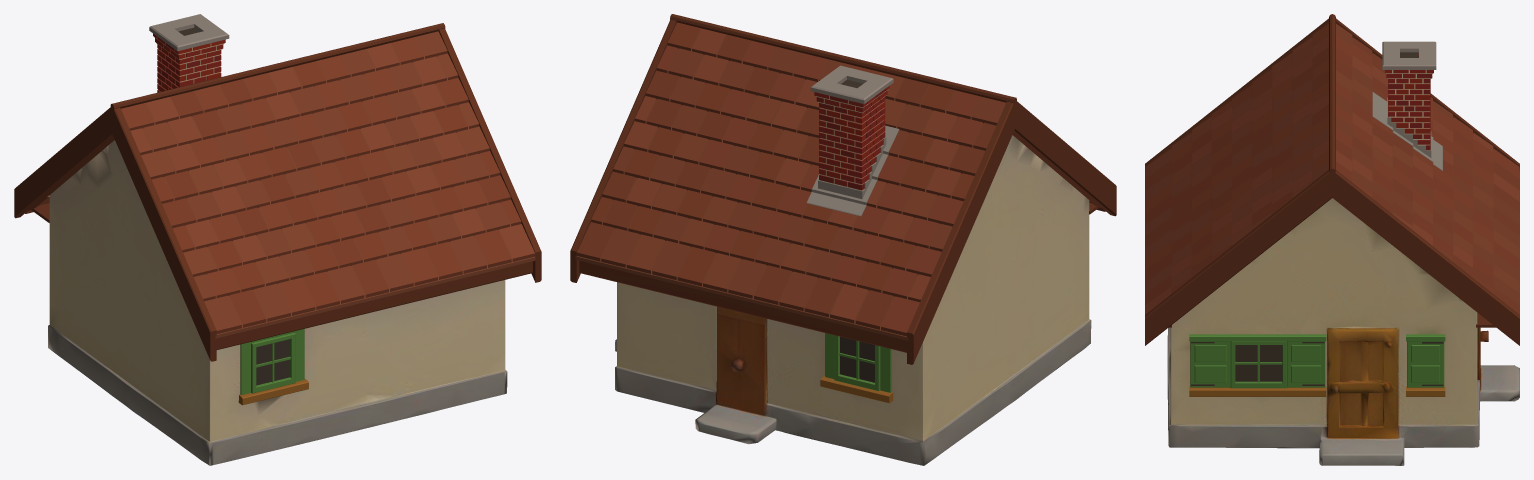
File: farmhouse.glb
The picture shows the model from 3 angles, left to right: view 1: azimuth 30°, elevation 25°; view 2: azimuth 150°, elevation 25°; view 3: azimuth 270°, elevation 25°; orthographic projection. The views are drawn at different scales.
Parts seen in each view (by area): view 1: FarmhouseBody; view 2: FarmhouseBody; view 3: FarmhouseBody.
Boxes of the visible parts, bbox=[...] form: FarmhouseBody: bbox=[14, 14, 541, 465]; FarmhouseBody: bbox=[570, 14, 1116, 465]; FarmhouseBody: bbox=[1145, 14, 1519, 465].
Size of the model in its own units: 6 by 5.23 by 5.84.
Materials: 1 (1 with a texture image).
